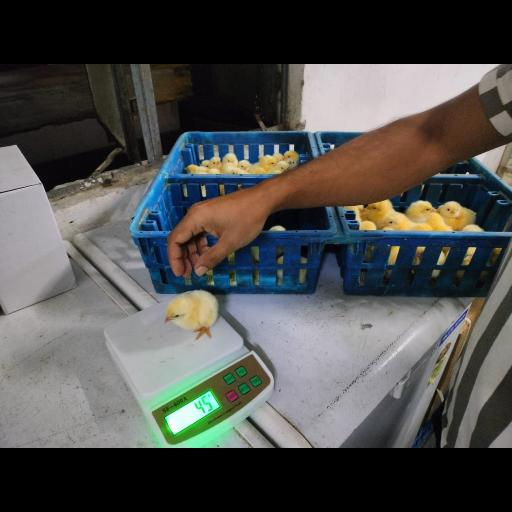chick: (164, 290, 219, 338)
